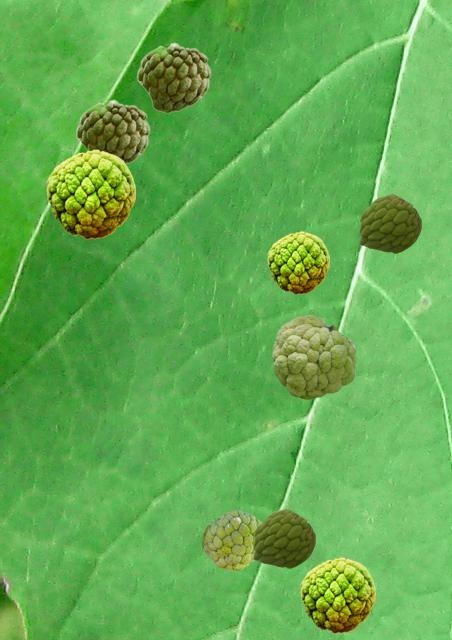atis: (46, 149, 134, 238), (272, 315, 355, 398), (300, 557, 374, 632), (136, 42, 210, 112), (75, 99, 149, 163), (267, 231, 328, 293), (359, 194, 420, 252), (253, 509, 314, 567), (202, 510, 261, 569)
